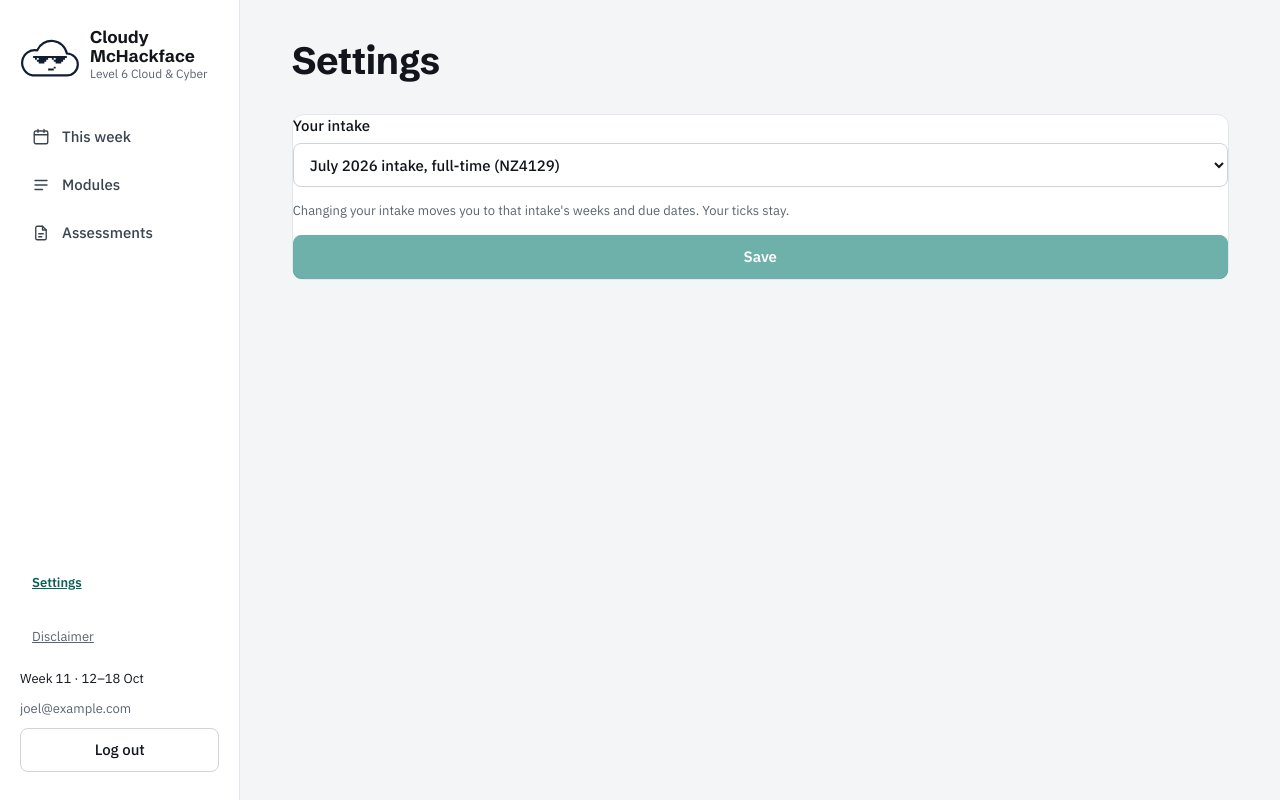
Test: SettingsPage › shows the server message when saving fails
The image size is (1280, 800).
Select "July 2026 intake, part-time (NZ4129)" in the dropdown labelled "Your intake": (760, 165) [293,143,1228,187]
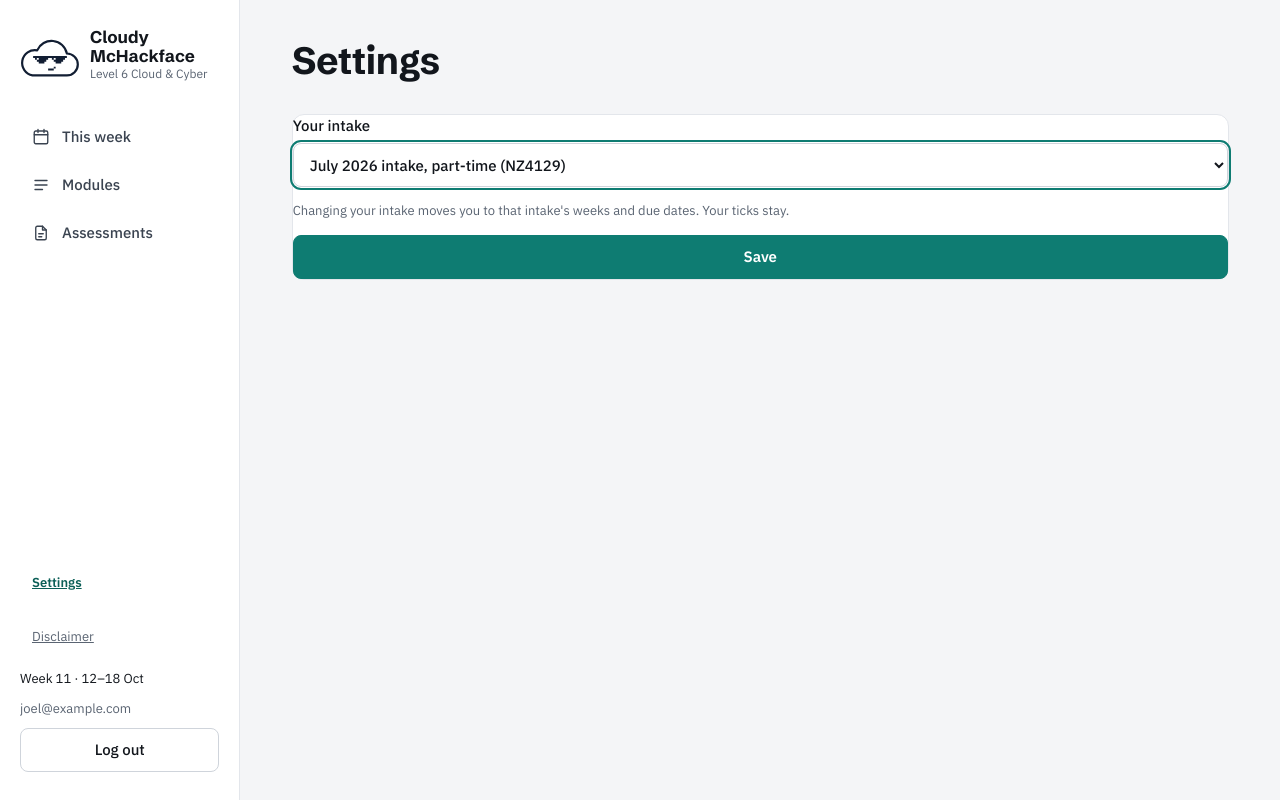
Click the button "Save": click(760, 257) [293,235,1228,279]
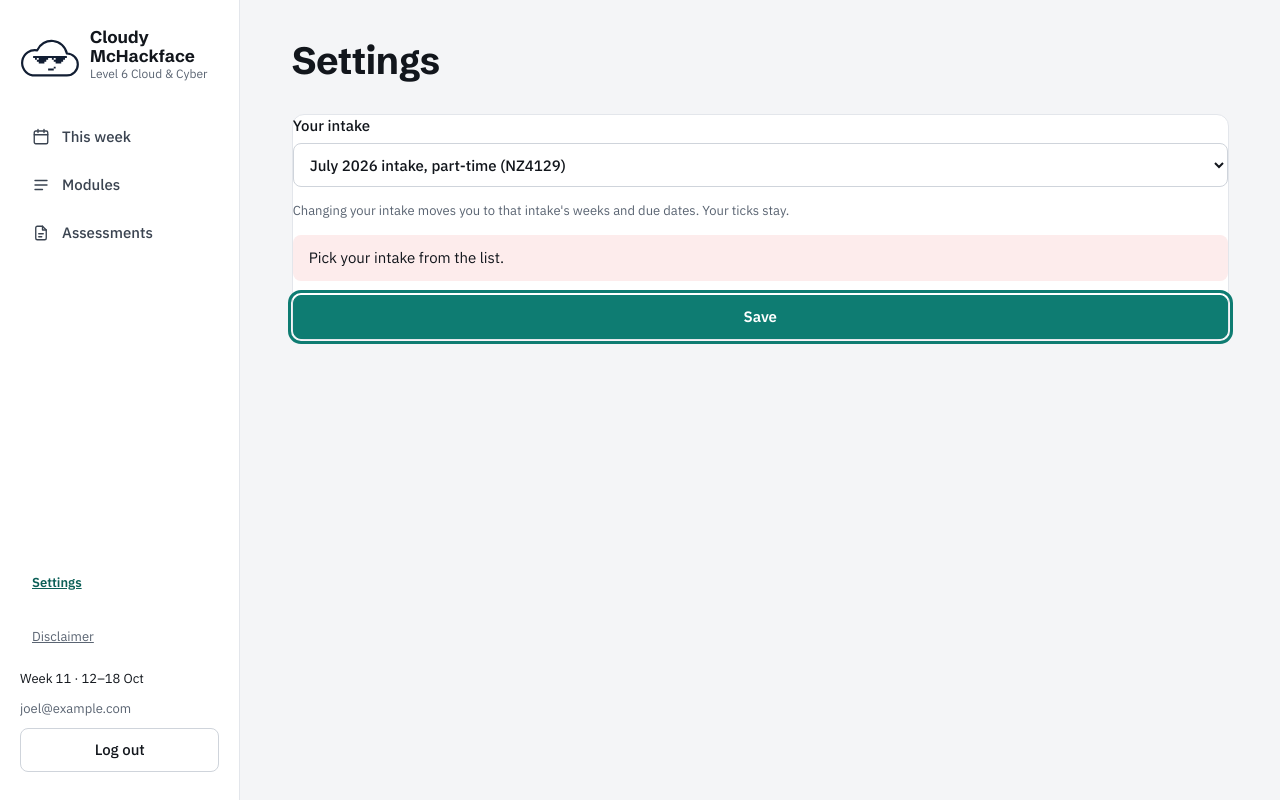
Expected: the message reads "Pick your intake from the list.", [309,248,504,267]
